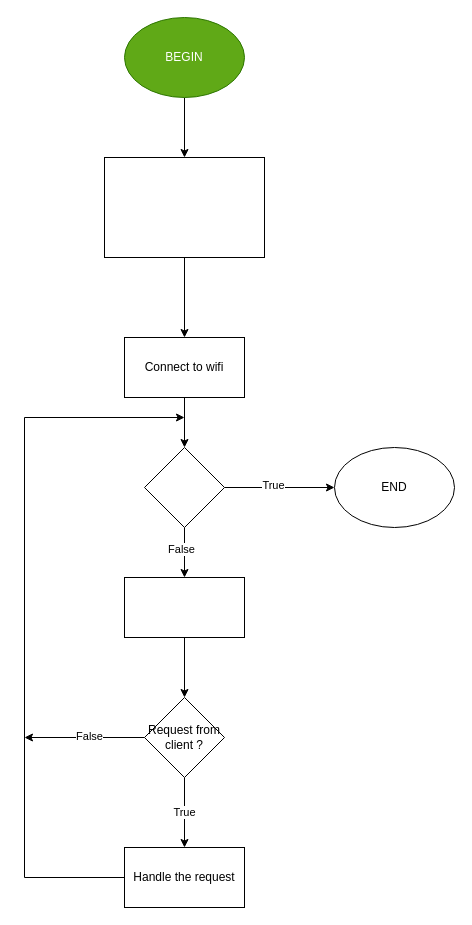
Image size: 472x925. Some labels were removed from this diagram. Here are the shapes that lost their labels. From the top down, the centre of each, then its label:
point (184, 207): Initialize modules and peripherals: Wifi (dual mode) GPIO
point (184, 487): Program stopped ?
point (184, 607): Listen to wifi client
